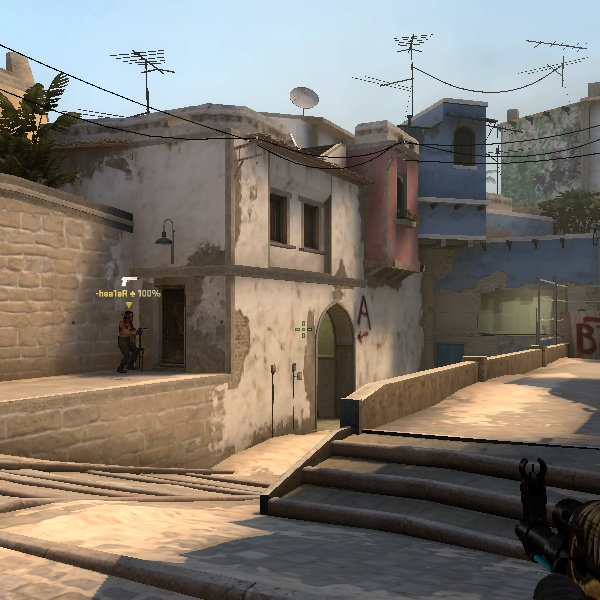t_body: (109, 306, 146, 372)
t_head: (120, 308, 138, 326)
